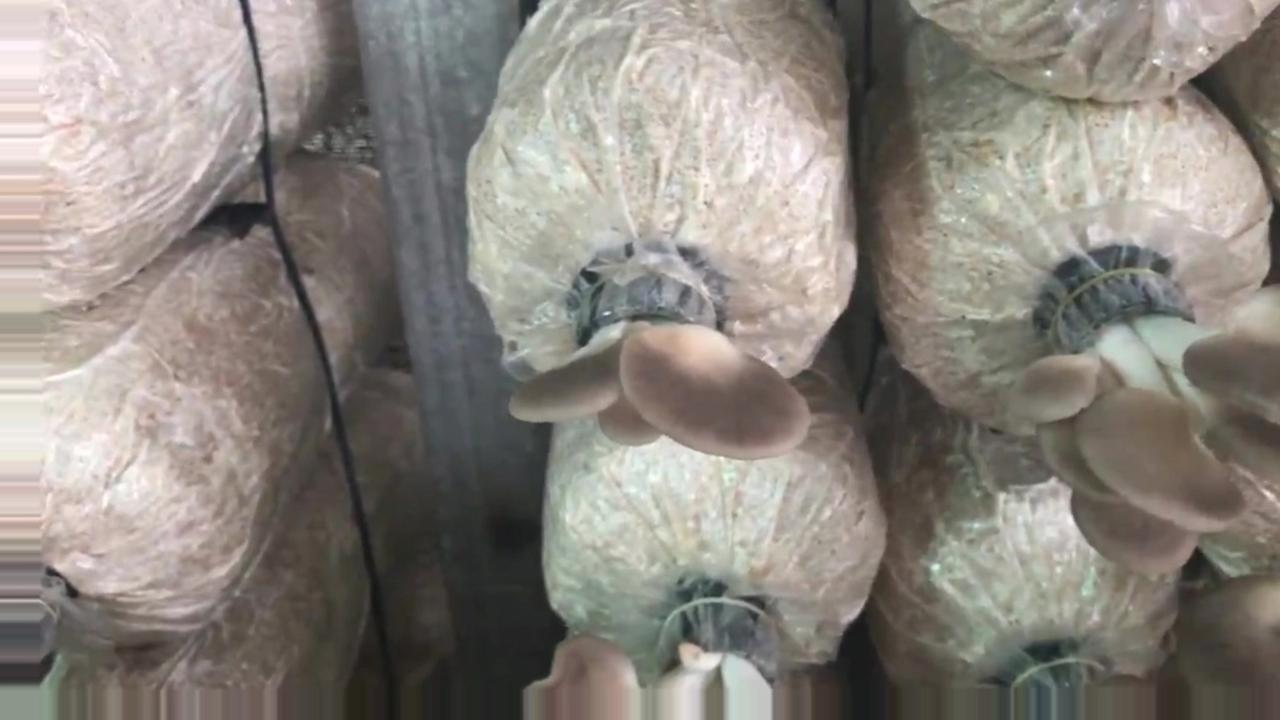nam: (1028, 263, 1275, 581), (506, 264, 811, 457)
